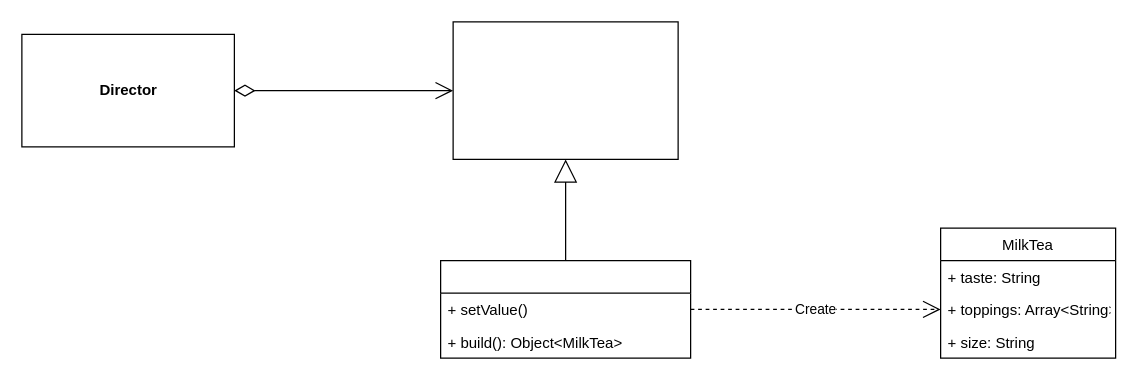
The diagram is 1138 pixels wide and 384 high, and some of its shapes have lost their labels. Here are the shapes that lost their labels. From the top down, the box of each, then its label:
(452, 21, 678, 159): <<Interface>> Builder<T> + build(): Object<T>
(439, 259, 691, 358): MilkTeaBuilder
